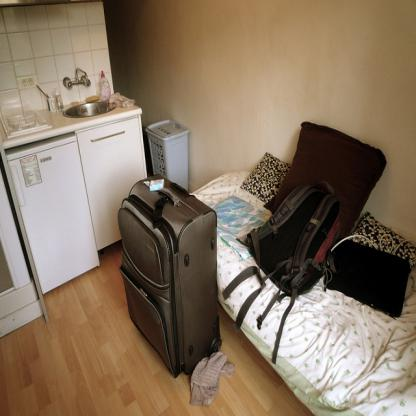backpack: (247, 181, 344, 297)
handbag: (323, 233, 408, 326)
suitcase: (118, 174, 221, 376)
